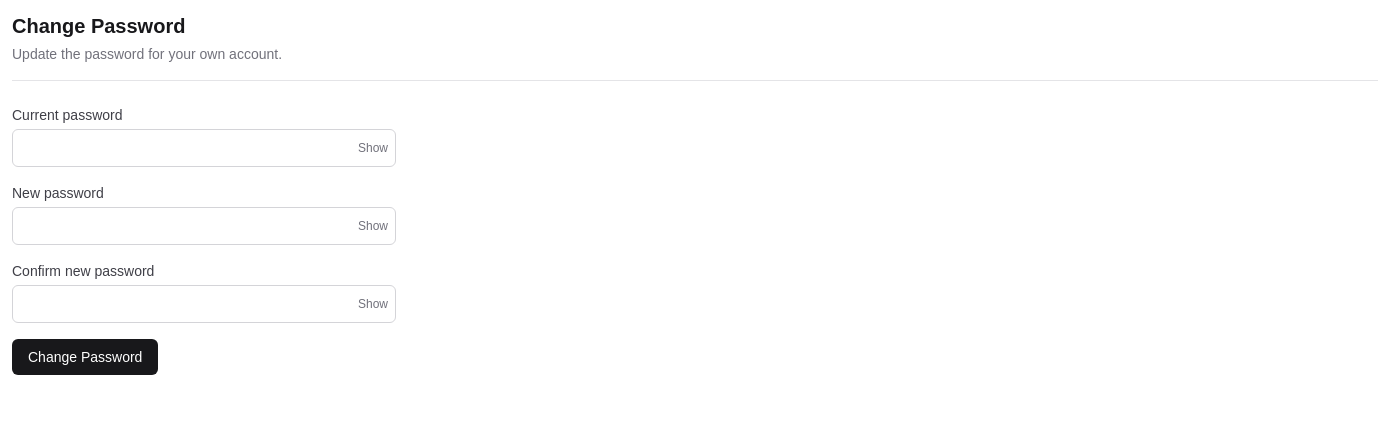
Test case: ChangePasswordPage › submits current and new password and shows a success message
Type "oldpassword1" into the password field labelled "Current password" at (204, 148), box [12,129,396,167]
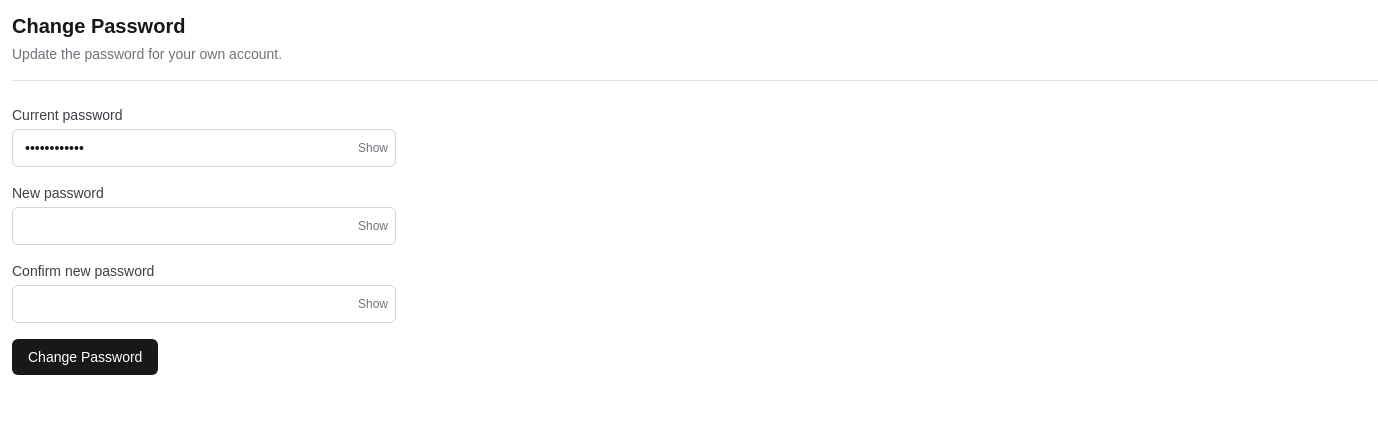
Type "newpassword1" into the password field labelled "New password" at (204, 226), box [12,207,396,245]
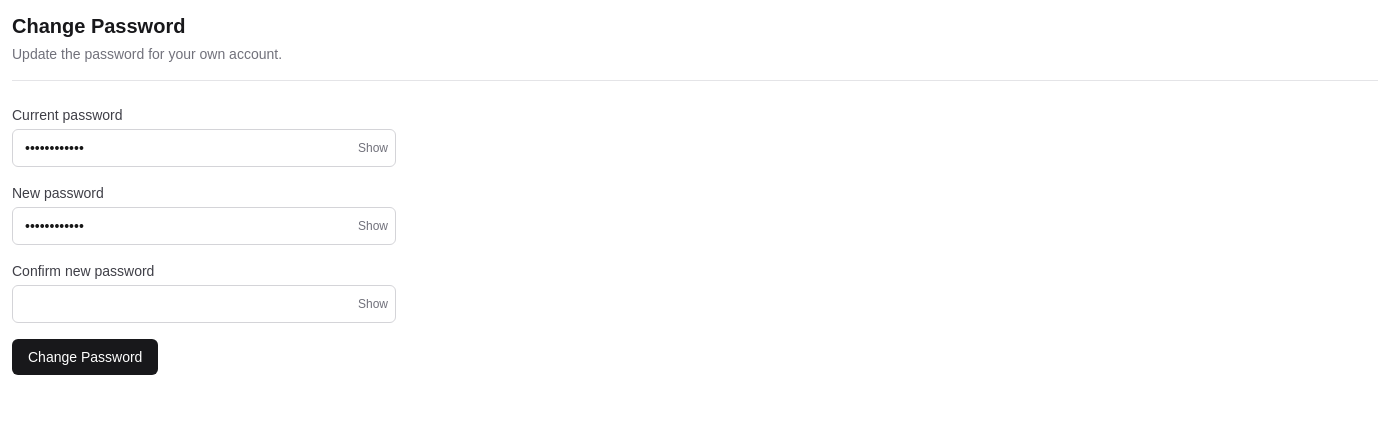
Type "newpassword1" into the password field labelled "Confirm new password" at (204, 304), box [12,285,396,323]
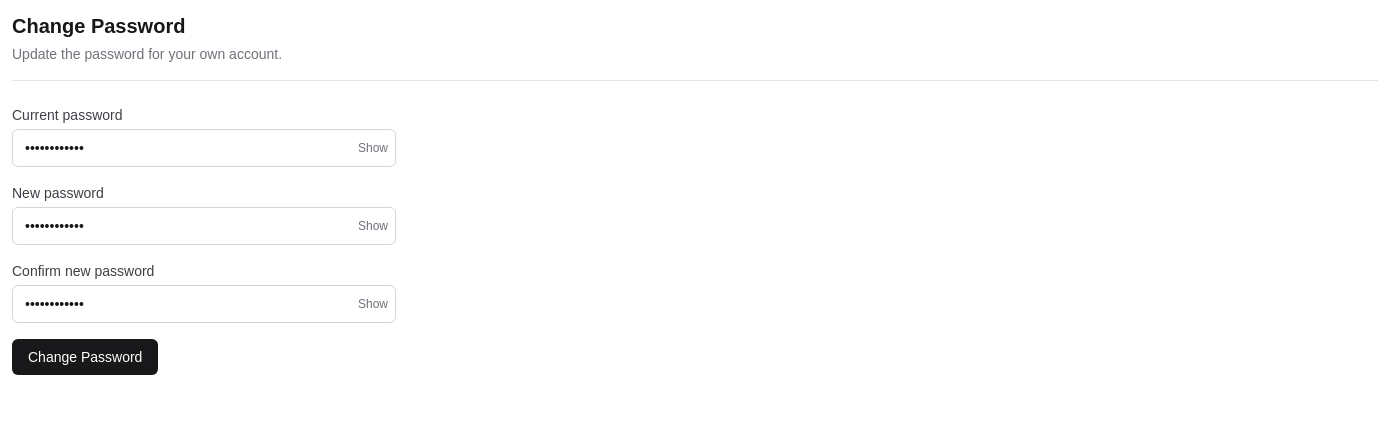
Click the button "Change Password" at (85, 357), box [12,339,158,375]
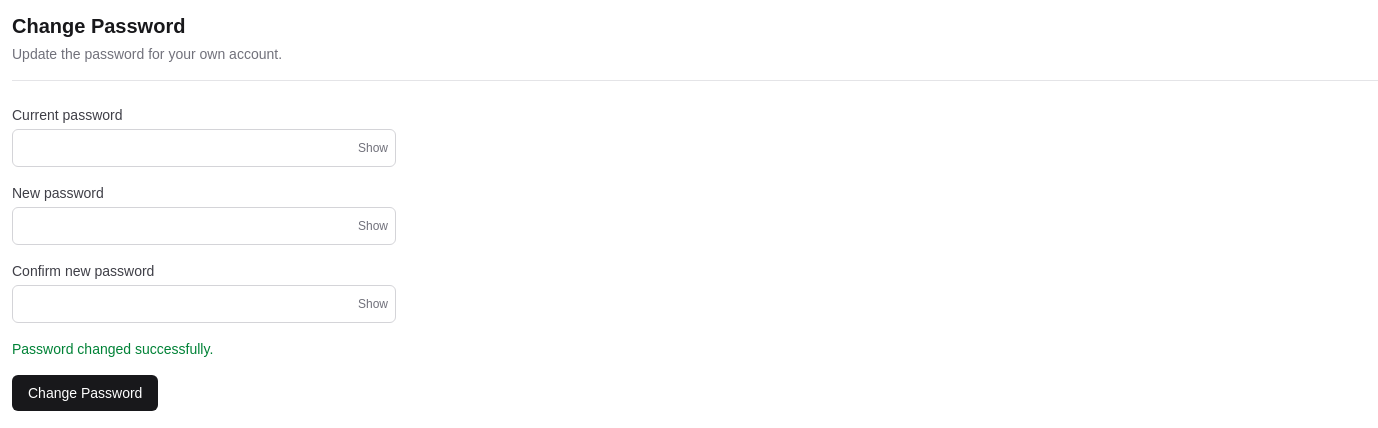
Expected: the text "Password changed successfully." is shown, [12,341,213,357]
